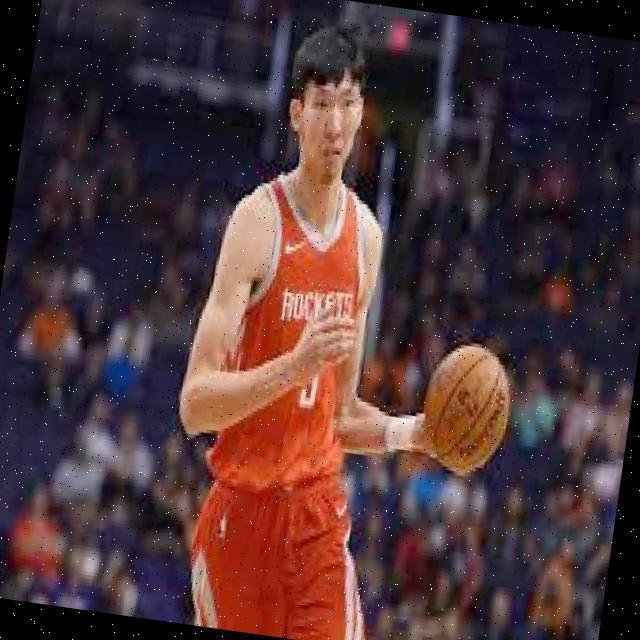ball: (421, 340, 516, 478)
